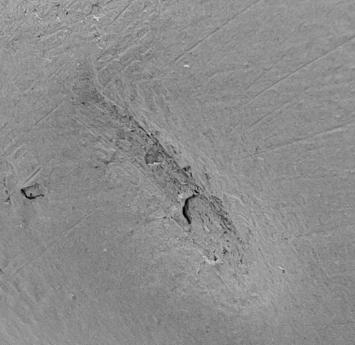dent: (1, 1, 355, 345)
